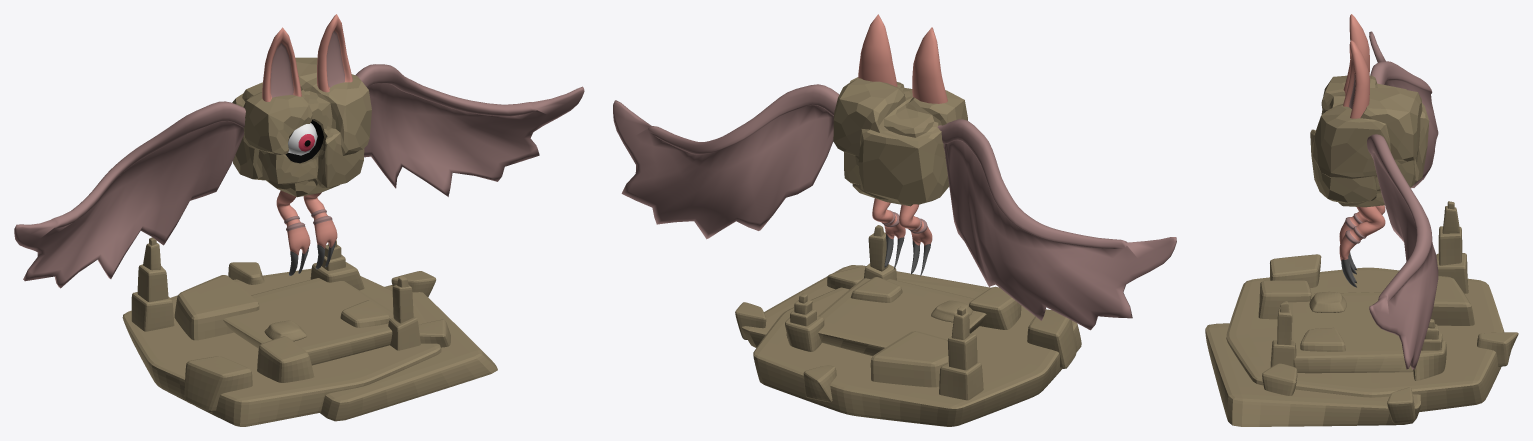
Rendered from Stonebat.fbx.
3 views of the same model, side by side, from view 1: azimuth 30°, elevation 25°; view 2: azimuth 150°, elevation 25°; view 3: azimuth 270°, elevation 25° (orthographic).
Visible parts, largest first — view 1: Cube.001, Wing, Stone, Ears, Feets, Eye; view 2: Wing, Cube.001, Stone, Ears, Feets; view 3: Cube.001, Stone, Wing, Ears, Feets.
Boxes of the visible parts, x1,y1,x2,y2 form: Cube.001: [122, 237, 497, 426]; Wing: [14, 64, 584, 288]; Stone: [232, 57, 371, 197]; Ears: [262, 14, 352, 101]; Feets: [276, 190, 337, 275]; Eye: [288, 123, 317, 155]; Wing: [613, 84, 1176, 330]; Cube.001: [735, 225, 1081, 426]; Stone: [833, 77, 967, 206]; Ears: [858, 14, 947, 103]; Feets: [872, 198, 932, 276]; Cube.001: [1205, 201, 1518, 426]; Stone: [1310, 75, 1429, 207]; Wing: [1367, 31, 1438, 369]; Ears: [1343, 14, 1369, 118]; Feets: [1339, 205, 1385, 287].
Size of the model in its own units: 1884 by 1074 by 902.
